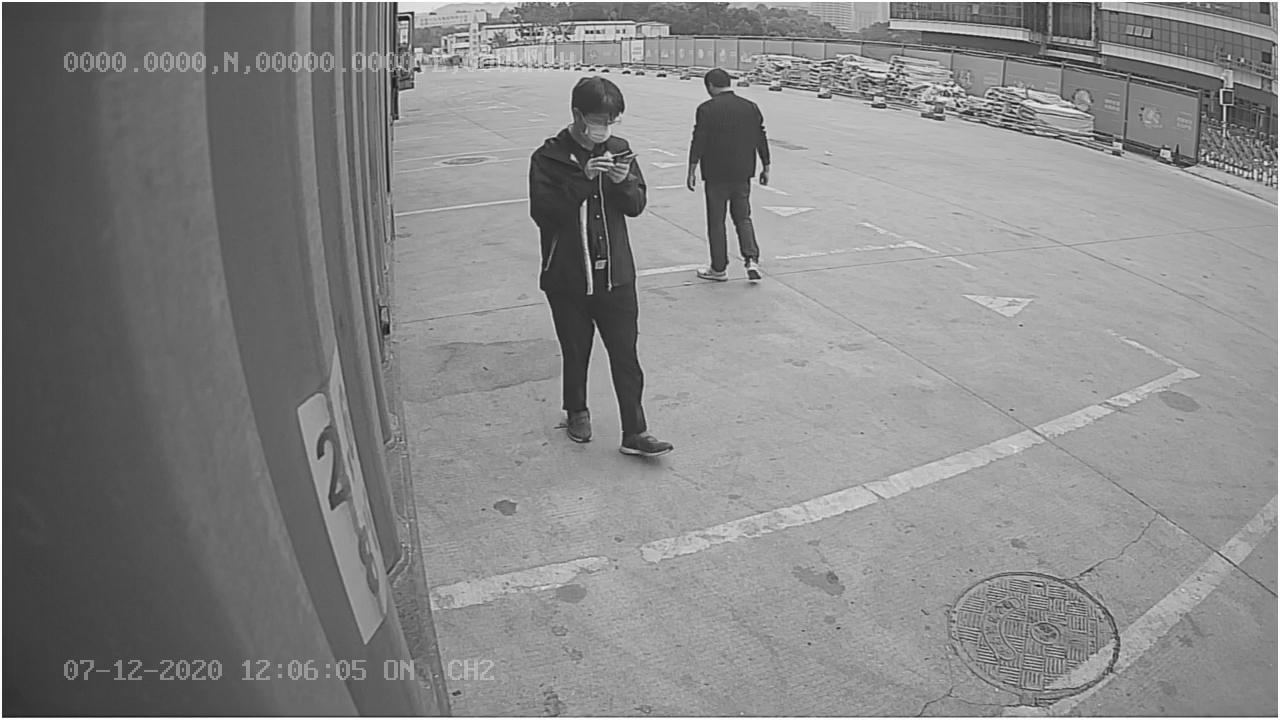person: (524, 75, 673, 455), (685, 59, 773, 287)
